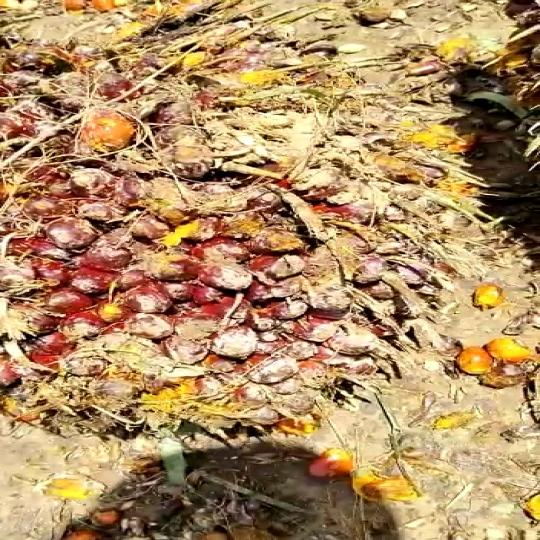kurang masak: (0, 15, 470, 440)
